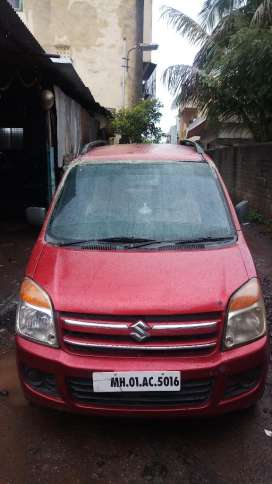license_plate: (93, 374, 180, 389)
